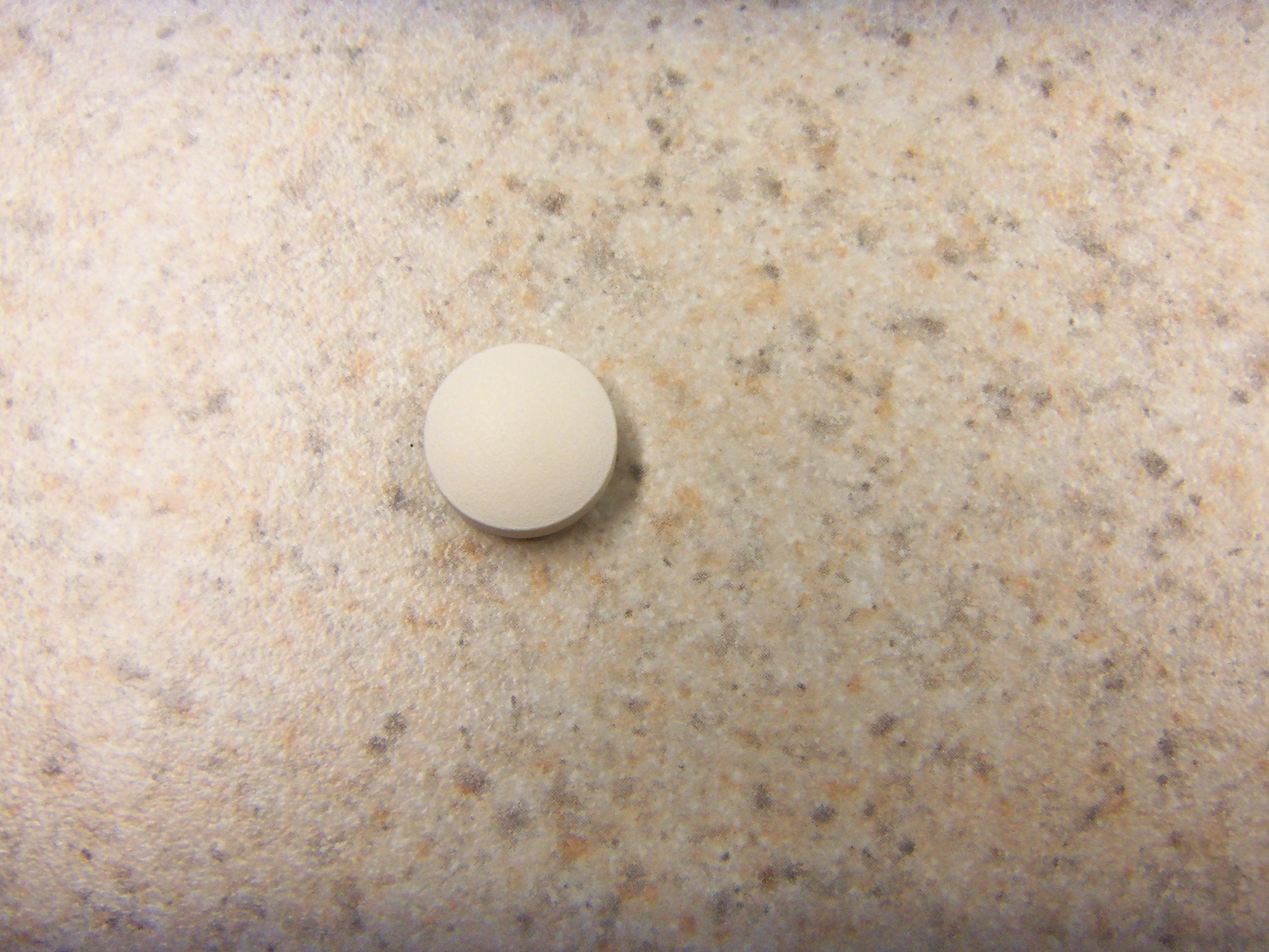Pill: (416, 336, 629, 548)
